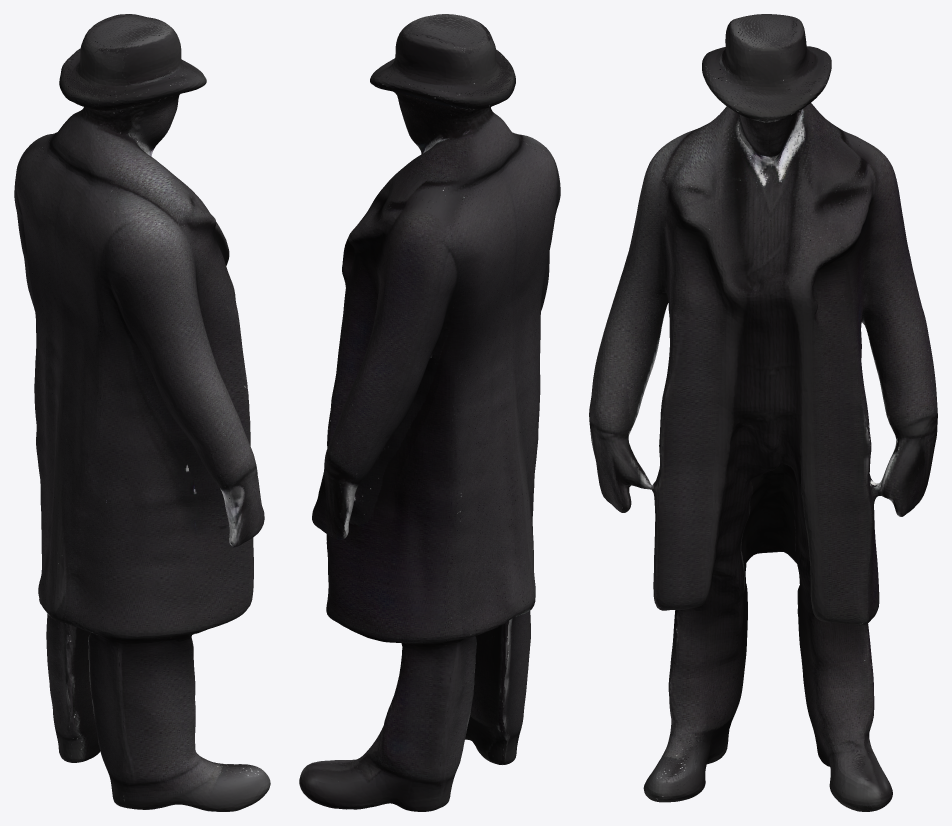
The model's file is textured_syncmvd.glb.
3 renders of one model, left to right at view 1: azimuth 30°, elevation 25°; view 2: azimuth 150°, elevation 25°; view 3: azimuth 270°, elevation 25°, orthographic.
Parts seen in each view (by area): view 1: Node; view 2: Node; view 3: Node.
Part boxes in pixels (bbox=[...]): Node: bbox=[14, 14, 270, 811]; Node: bbox=[299, 14, 560, 811]; Node: bbox=[589, 14, 937, 811].
Size of the model in its own units: 0.4902 by 2 by 0.8446.
Materials: 1 (1 with a texture image).
